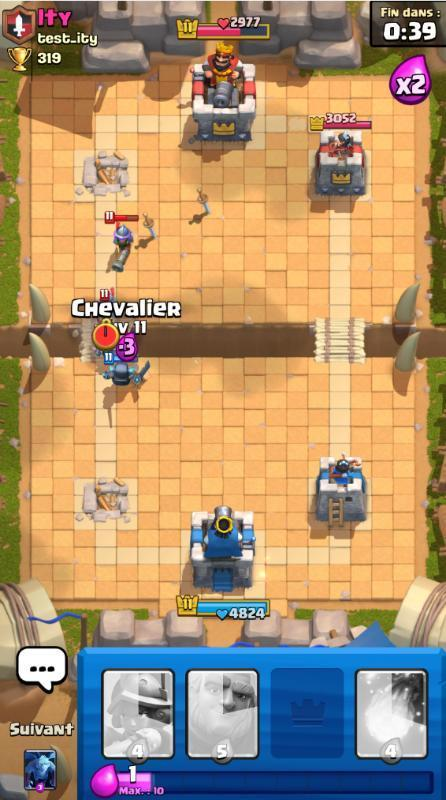enemy_musketeer: (99, 207, 155, 264)
player_mini_pekka: (98, 351, 153, 392)
